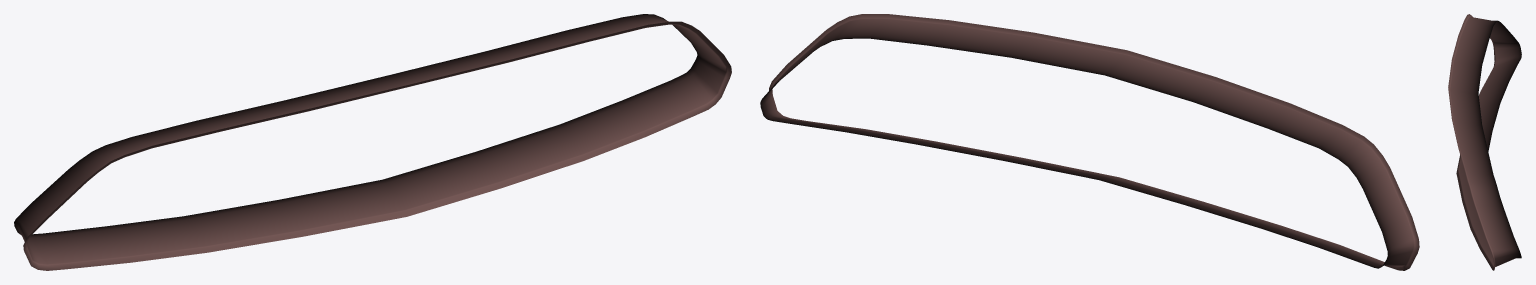
File: Mustang16_Grill_03_Trim.fbx
3 renders of one model, left to right at view 1: azimuth 30°, elevation 25°; view 2: azimuth 150°, elevation 25°; view 3: azimuth 270°, elevation 25°, orthographic. The views are drawn at different scales.
Visible parts, largest first — view 1: Mustang16_Grill_03_Trim; view 2: Mustang16_Grill_03_Trim; view 3: Mustang16_Grill_03_Trim.
Part boxes in pixels (x1,y1,x2,y2): Mustang16_Grill_03_Trim: [14, 14, 731, 270]; Mustang16_Grill_03_Trim: [760, 14, 1419, 270]; Mustang16_Grill_03_Trim: [1448, 14, 1521, 270].
Bounding box in the file's own units: 108 × 20.2 × 15.76.
